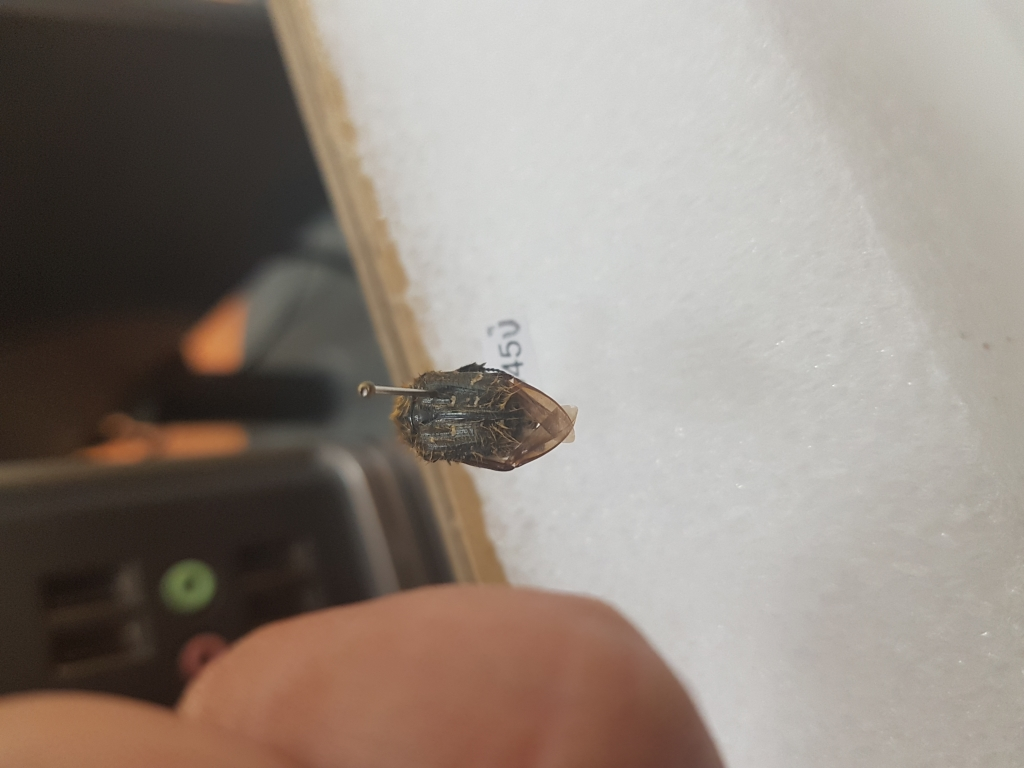Tropinota_hirta: (385, 356, 586, 474)
